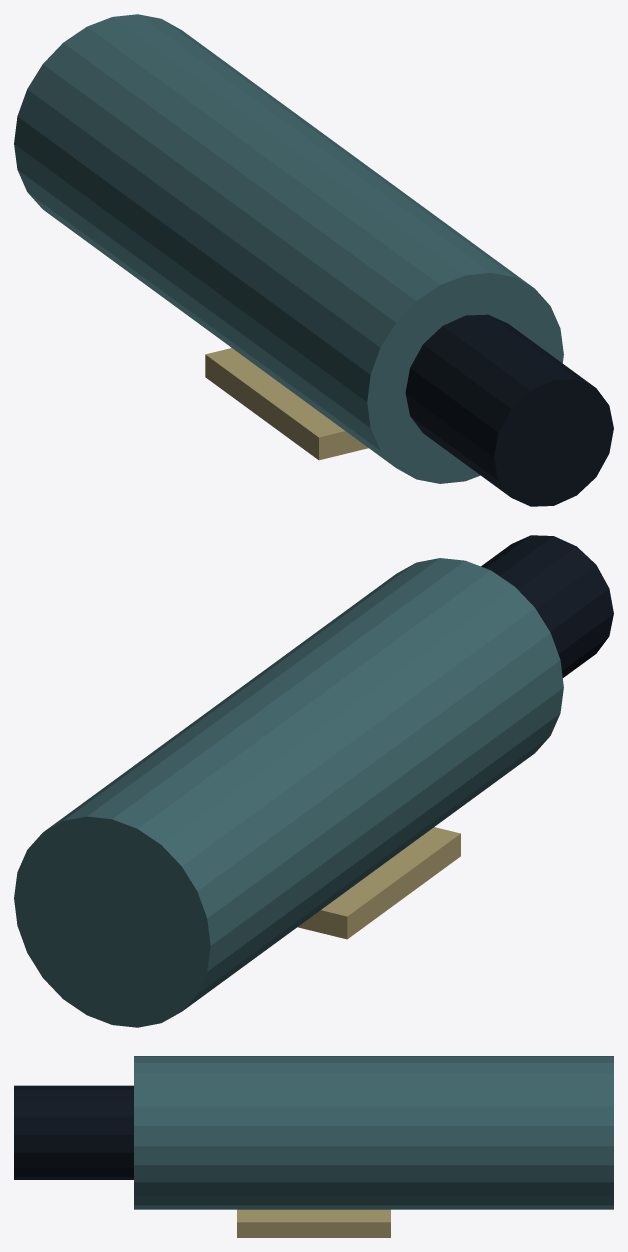
The model's file is fps_bottle_hand_prop.obj.
3 renders of one model, top to bottom at view 1: azimuth 30°, elevation 25°; view 2: azimuth 150°, elevation 25°; view 3: azimuth 270°, elevation 25°, orthographic. The views are drawn at different scales.
Parts seen in each view (by area): view 1: fps_bottle_hand_prop; view 2: fps_bottle_hand_prop; view 3: fps_bottle_hand_prop.
Boxes of the visible parts, x1,y1,x2,y2 form: fps_bottle_hand_prop: [14, 14, 613, 506]; fps_bottle_hand_prop: [14, 535, 613, 1027]; fps_bottle_hand_prop: [14, 1056, 613, 1237].
Bounding box in the file's own units: 0.18 × 0.195 × 0.7.
